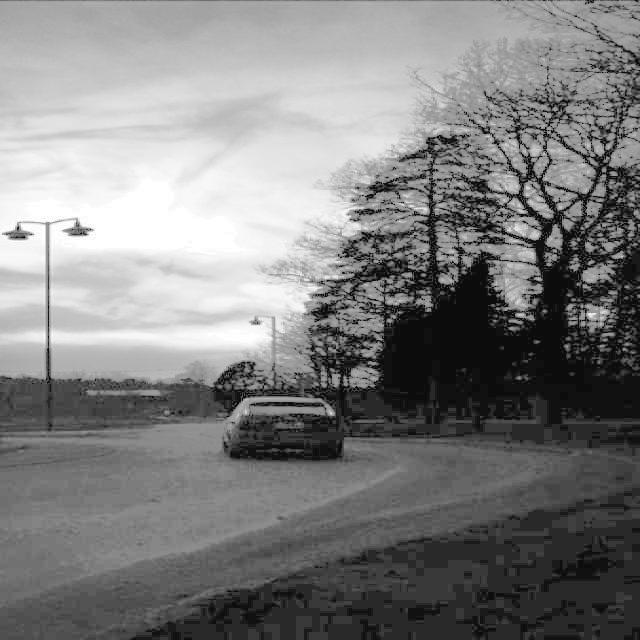Car: (199, 384, 388, 475)
